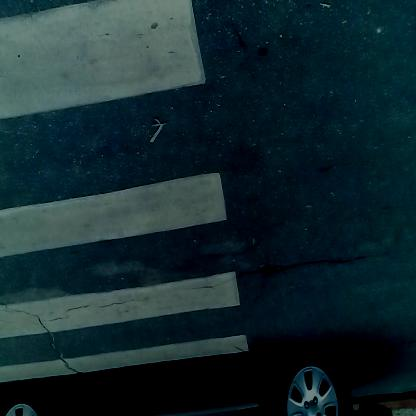crosswalk: (2, 2, 255, 369)
